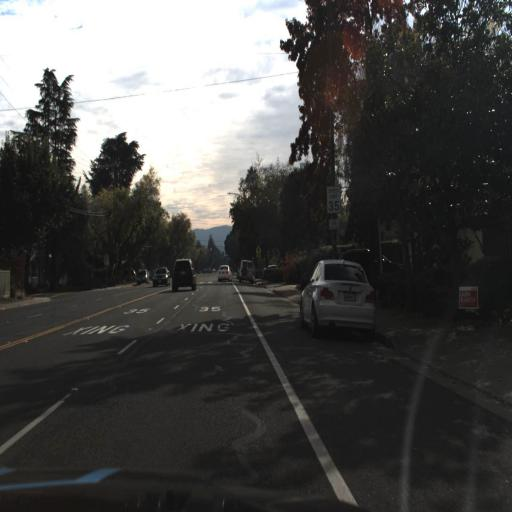car: (299, 258, 378, 342), (352, 248, 400, 290), (169, 252, 200, 294), (168, 252, 199, 292), (152, 266, 170, 288), (238, 258, 254, 282), (216, 264, 232, 283)
